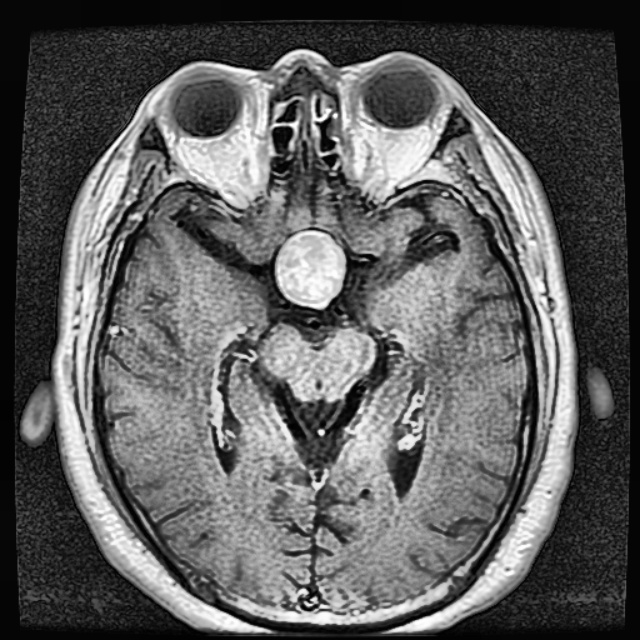Pituitary: (277, 230, 344, 308)
